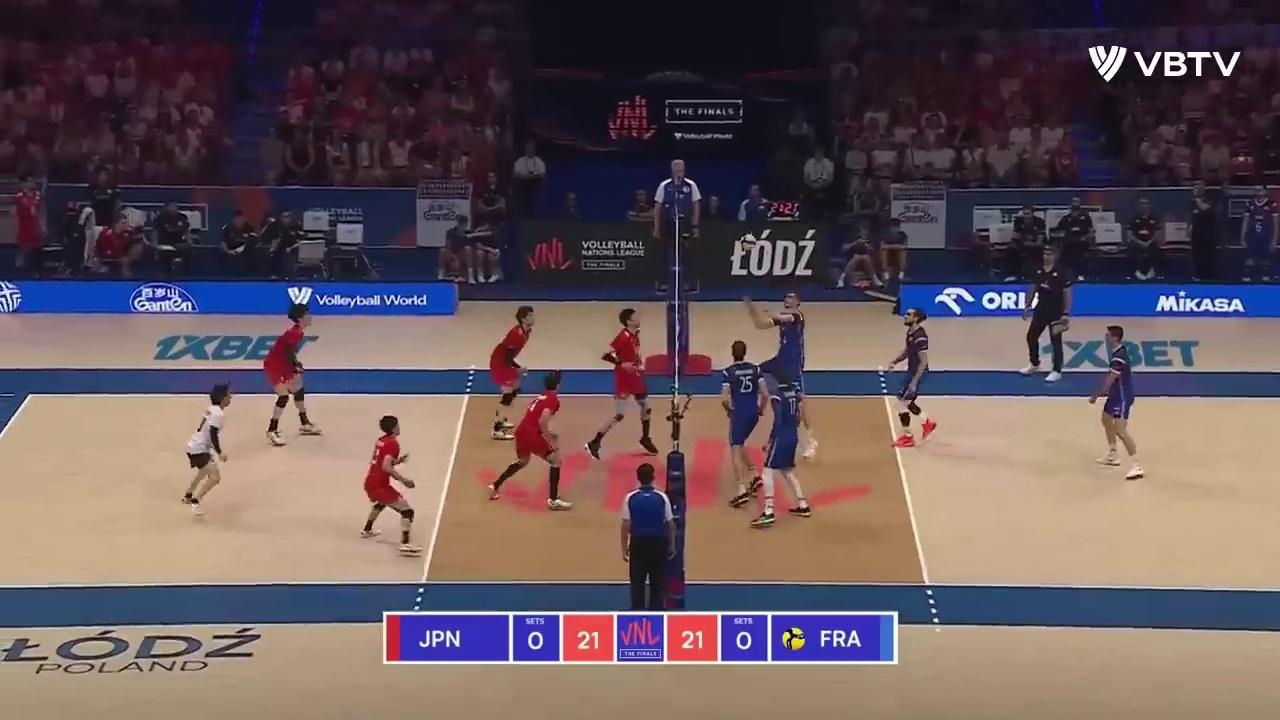ball: (742, 234, 757, 251)
